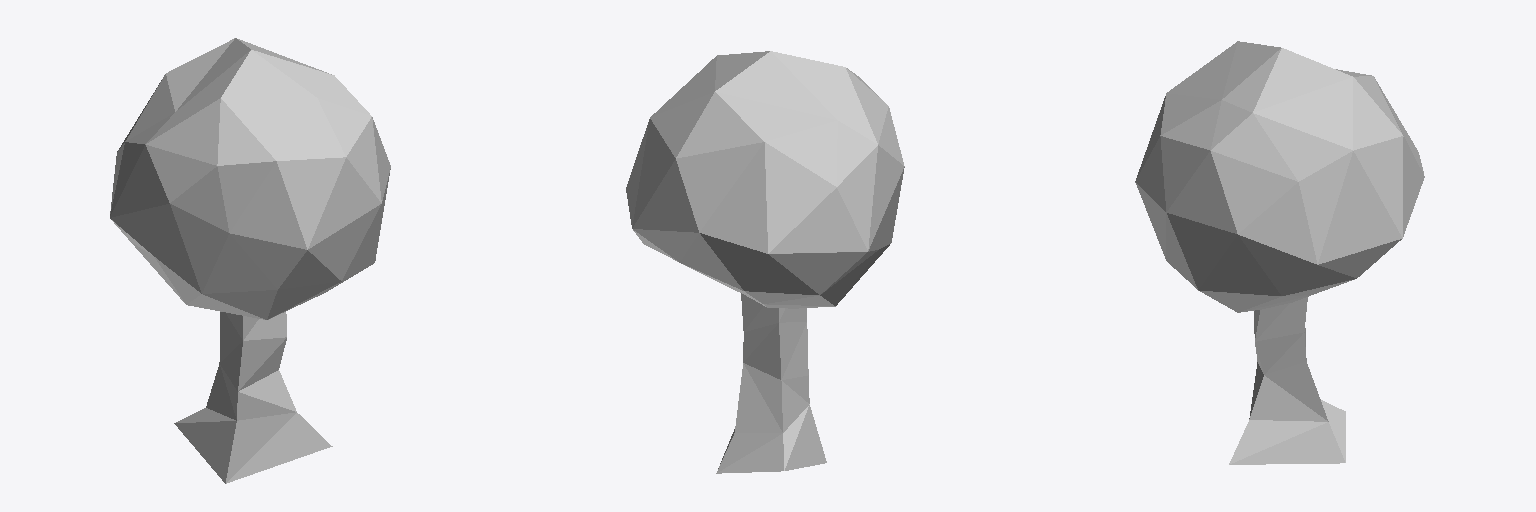
File: testaronaron.obj
The picture shows the model from 3 angles: view 1: azimuth 30°, elevation 25°; view 2: azimuth 150°, elevation 25°; view 3: azimuth 270°, elevation 25°; orthographic projection.
Parts seen in each view (by area): view 1: Icosphere, Cube_Cube.002; view 2: Icosphere, Cube_Cube.002; view 3: Icosphere, Cube_Cube.002.
Part boxes in pixels (left/top/right/bottom): Icosphere: left=110, top=38, right=390, bottom=319; Cube_Cube.002: left=174, top=312, right=332, bottom=483; Icosphere: left=626, top=51, right=904, bottom=308; Cube_Cube.002: left=716, top=293, right=826, bottom=473; Icosphere: left=1135, top=41, right=1424, bottom=312; Cube_Cube.002: left=1229, top=297, right=1345, bottom=464.
Bounding box in the file's own units: 13.68 × 21.91 × 13.92.